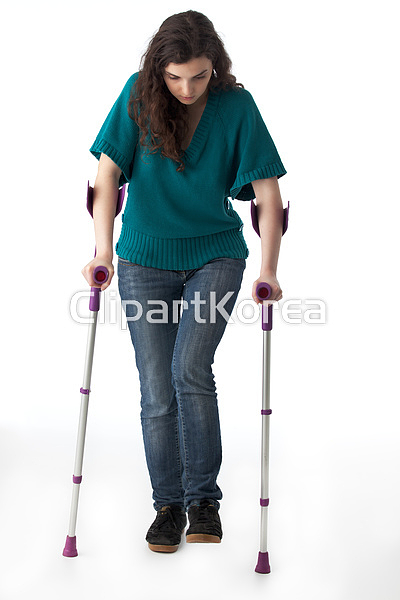crutches: (60, 10, 290, 576)
